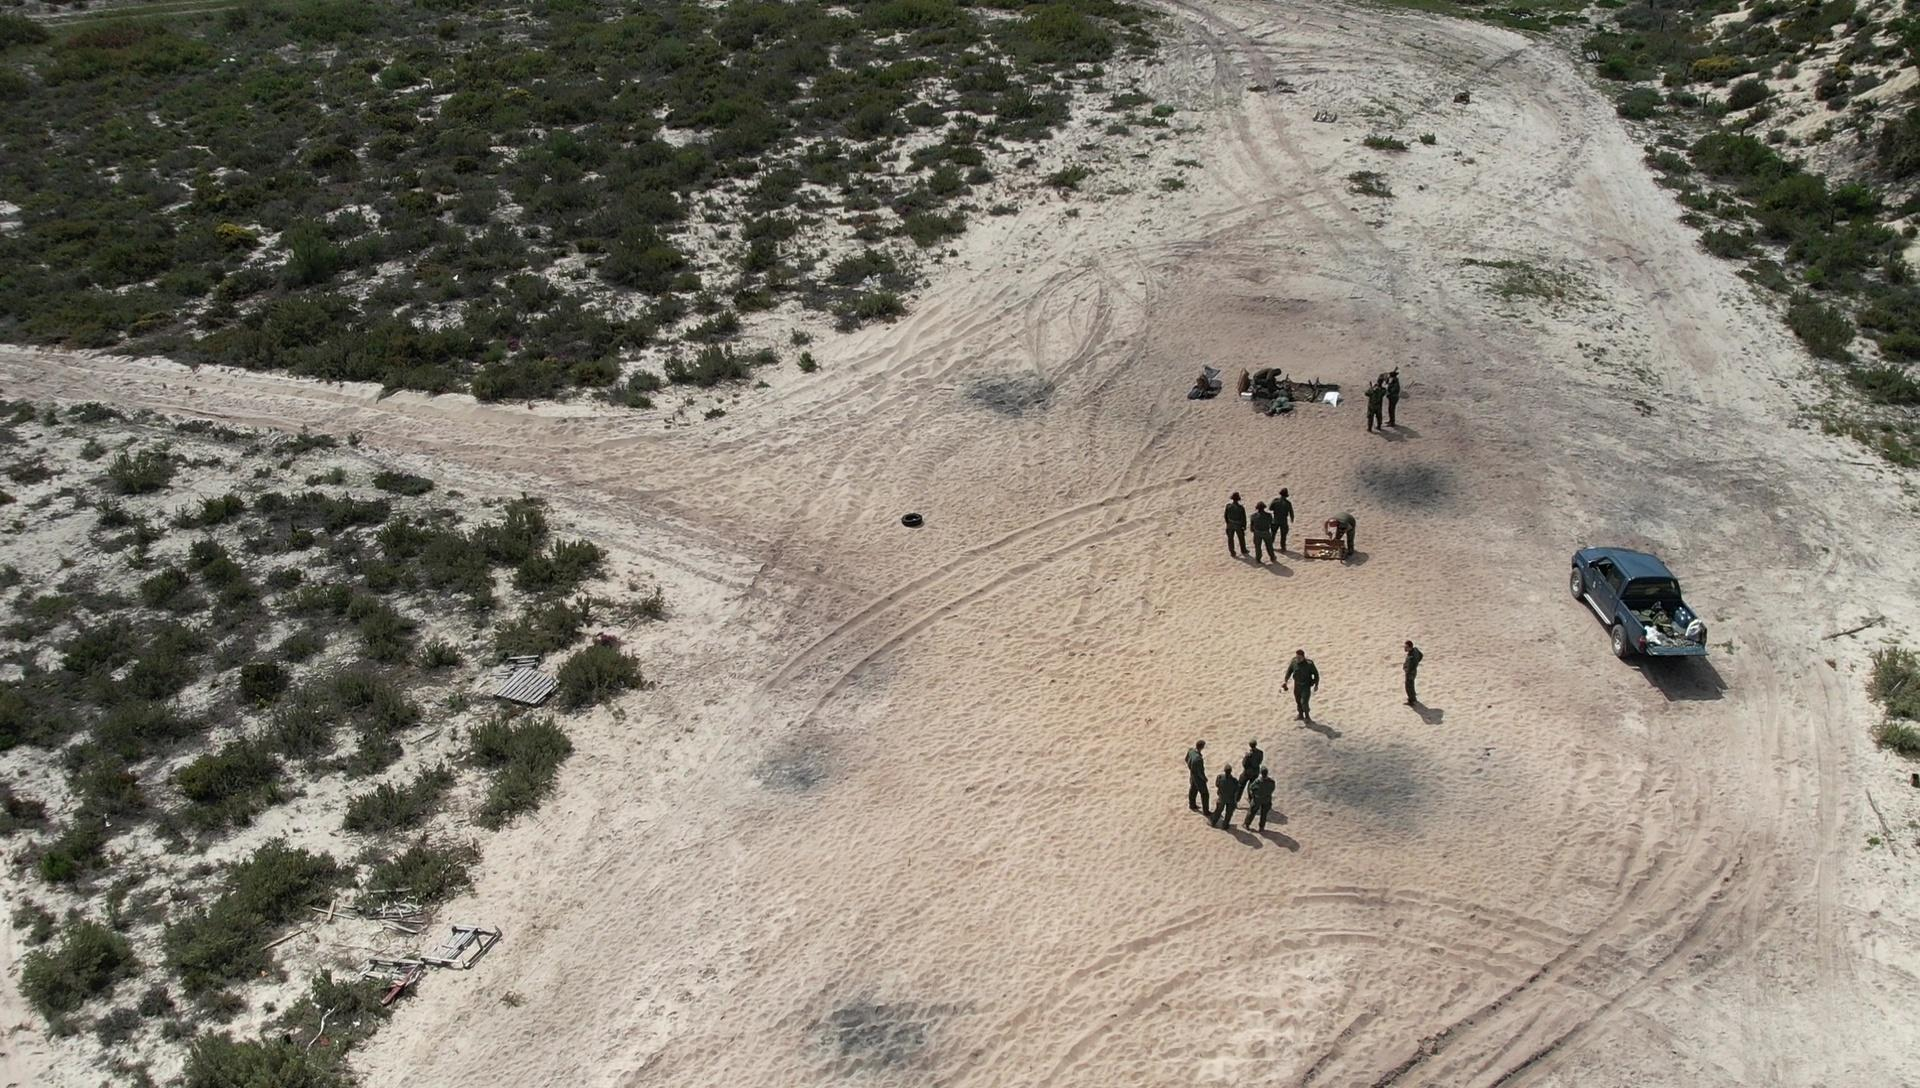Soldier: (1279, 645, 1325, 733), (1218, 483, 1255, 563), (1394, 634, 1428, 717), (1242, 765, 1280, 835), (1180, 736, 1211, 819), (1246, 497, 1280, 568), (1209, 757, 1240, 833), (1323, 504, 1362, 560), (1251, 363, 1288, 411), (1374, 368, 1402, 430), (1273, 485, 1296, 557), (1365, 372, 1389, 438), (1240, 735, 1271, 773), (1273, 378, 1299, 419)
